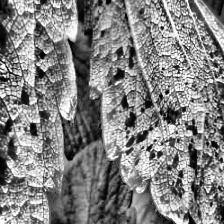Angular Leafspot: (77, 0, 224, 224), (0, 0, 80, 224)
